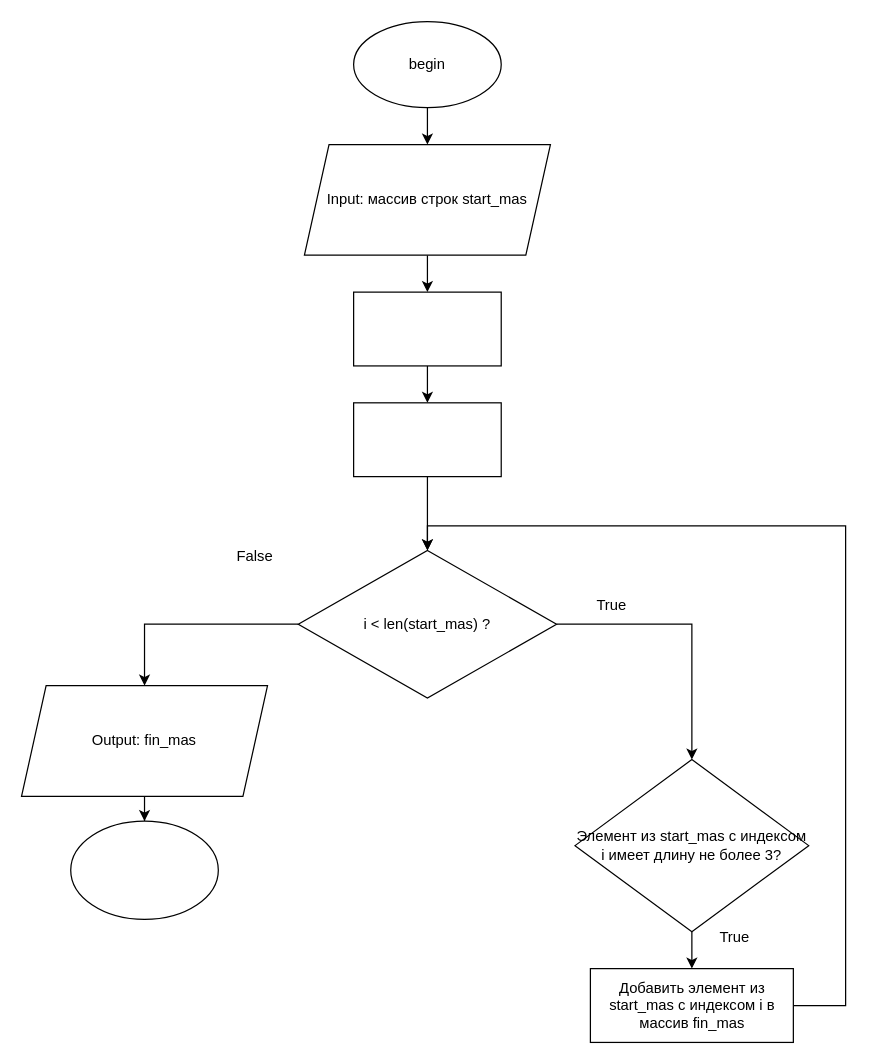
The diagram is 877 pixels wide and 1064 high, and some of its shapes have lost their labels. The centre of each missing label's shape, as x and y in pixels:
"End" belongs at (x=143, y=869).
"i = 0" belongs at (x=426, y=439).
"Создание нового массива fin_mas = []" belongs at (x=426, y=328).
